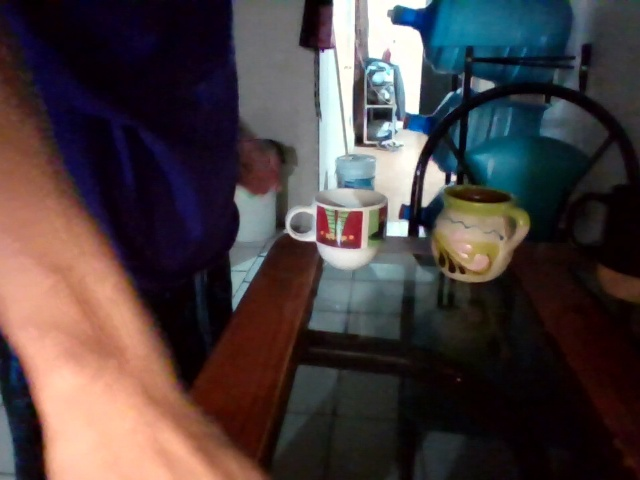taza: (431, 186, 531, 284), (285, 206, 317, 243)
